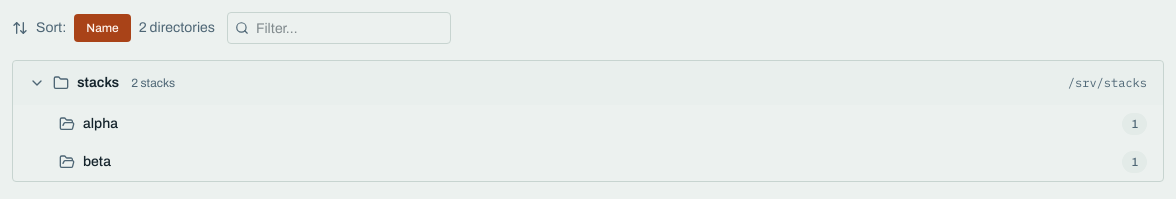
Test: DirectoriesTab — filtering › also matches on the path of a stack inside the directory
Type "nginx" into the field with placeholder "Filter…" at (339, 28), box 227,12 -> 451,44
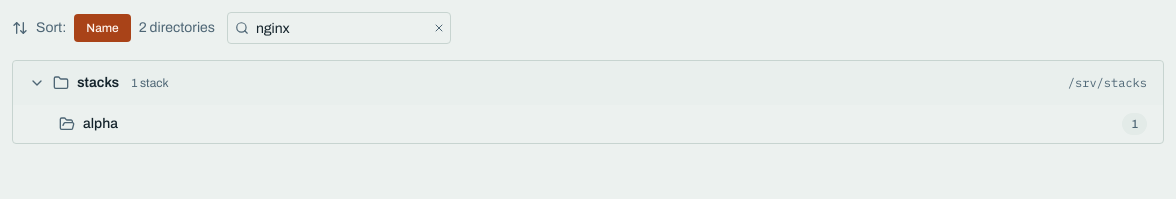
Expected: the text "alpha" is shown, 83,116 -> 118,131
Now the text "beta" is gone
